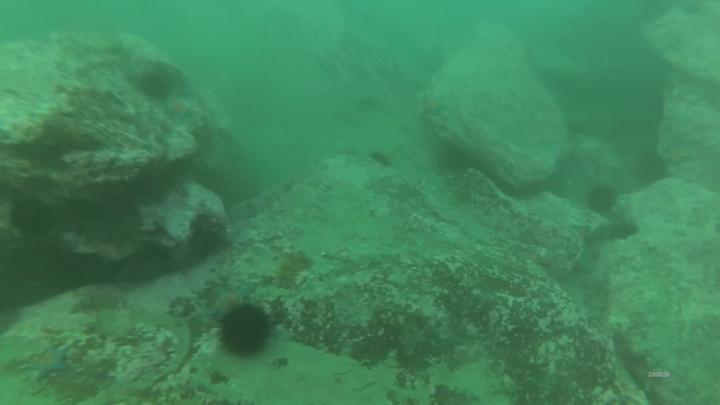echinus: (216, 300, 277, 360), (1, 196, 52, 237), (134, 65, 174, 104), (584, 181, 623, 215)
holothurian: (276, 251, 308, 287)
starfish: (31, 343, 72, 381)
